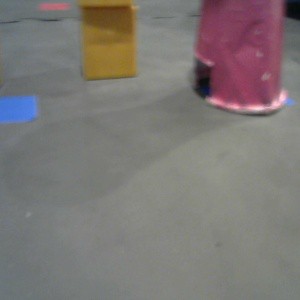Right: (195, 1, 288, 111)
